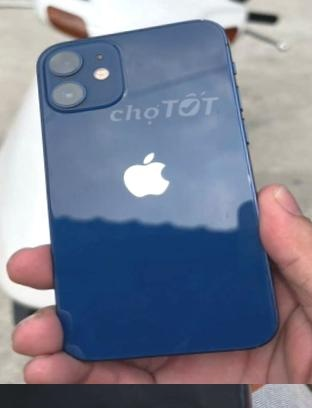scratch: (201, 384, 272, 408)
